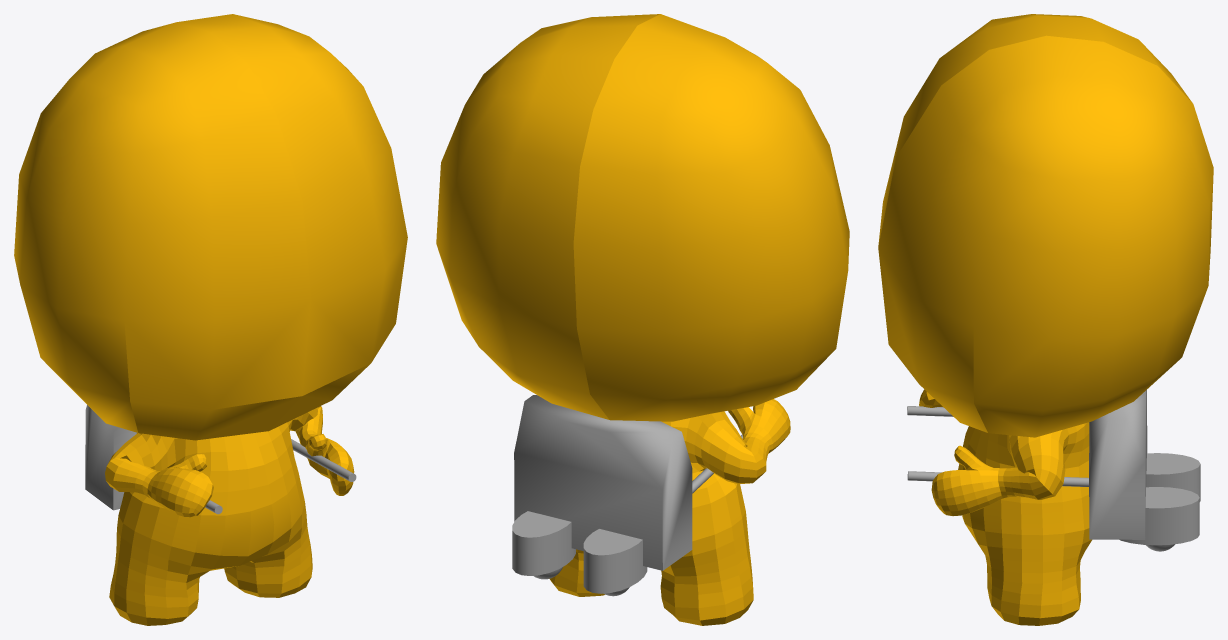
Rendered from Character@FlyRight.fbx.
The picture shows the model from 3 angles, left to right: view 1: azimuth 30°, elevation 25°; view 2: azimuth 150°, elevation 25°; view 3: azimuth 270°, elevation 25°; orthographic projection. The views are drawn at different scales.
Visible parts, largest first — view 1: Rendu; view 2: Rendu; view 3: Rendu.
Part boxes in pixels (x1,y1,x2,y2): Rendu: (14, 14, 407, 625); Rendu: (436, 14, 849, 625); Rendu: (878, 14, 1213, 625).
Bounding box in the file's own units: 20.81 × 31.15 × 17.18.
